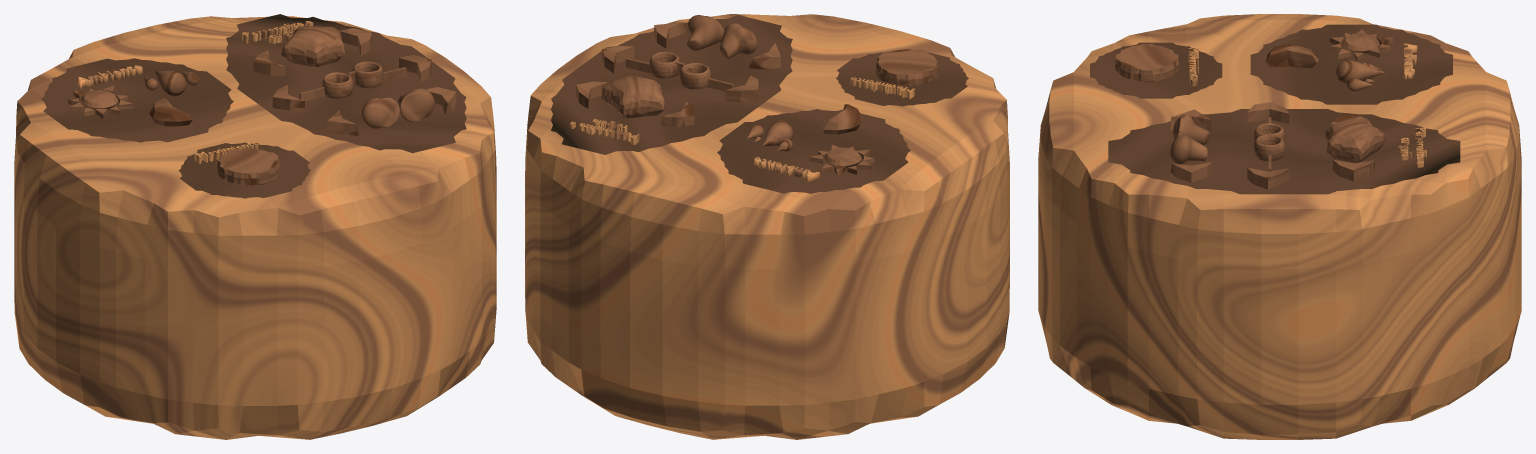
File: menuTrunk.fbx
3 views of the same model, side by side, from view 1: azimuth 30°, elevation 25°; view 2: azimuth 150°, elevation 25°; view 3: azimuth 270°, elevation 25° (orthographic).
Parts seen in each view (by area): view 1: Circle.002, Circle.007, Circle.003, Circle.008, Circle.009, Circle.018, Circle.004, Circle.001, Circle.014, Circle.015, Circle.012, Circle.011 (+2 smaller); view 2: Circle.002, Circle.007, Circle.009, Circle.003, Circle.008, Circle.018, Circle.004, Circle.001, Circle.012, Circle.015, Circle.011, Circle.014 (+2 smaller); view 3: Circle.002, Circle.007, Circle.003, Circle.009, Circle.018, Circle.008, Circle.004, Circle.001, Circle.012, Circle.015, Circle.014, Circle.016.
Part boxes in pixels (x1,y1,x2,y2): Circle.002: (14, 14, 496, 439); Circle.007: (281, 26, 344, 67); Circle.003: (217, 148, 280, 185); Circle.008: (299, 61, 406, 101); Circle.009: (361, 88, 434, 128); Circle.018: (68, 85, 133, 118); Circle.004: (144, 70, 199, 96); Circle.001: (149, 98, 192, 126); Circle.014: (339, 28, 372, 56); Circle.015: (399, 55, 431, 82); Circle.012: (272, 85, 304, 111); Circle.011: (253, 50, 285, 75); Circle.002: (525, 14, 1009, 439); Circle.007: (602, 75, 664, 118); Circle.009: (687, 15, 757, 59); Circle.003: (875, 49, 939, 86); Circle.008: (625, 52, 733, 91); Circle.018: (809, 144, 874, 175); Circle.004: (747, 120, 793, 151); Circle.001: (820, 104, 862, 134); Circle.012: (725, 75, 758, 101); Circle.015: (602, 46, 634, 72); Circle.011: (661, 102, 694, 126); Circle.014: (576, 81, 608, 108); Circle.002: (1038, 14, 1521, 439); Circle.007: (1325, 118, 1385, 162); Circle.003: (1115, 44, 1178, 82); Circle.009: (1170, 114, 1210, 164); Circle.018: (1329, 29, 1392, 61); Circle.008: (1254, 117, 1284, 171); Circle.004: (1336, 60, 1384, 91); Circle.001: (1265, 44, 1318, 68); Circle.012: (1247, 102, 1289, 123); Circle.015: (1247, 168, 1289, 189); Circle.014: (1332, 159, 1374, 181); Circle.016: (1170, 162, 1212, 182).
Size of the model in its own units: 652 by 410 by 652.
3 materials, 3 textured.
